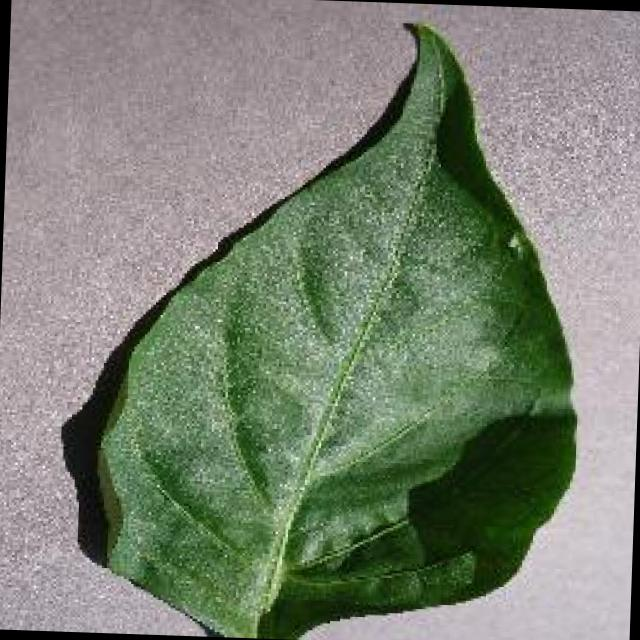Chilli_Healthy: (84, 7, 593, 640)
